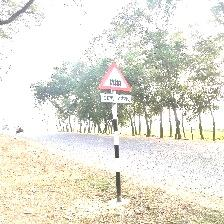Rail-crossing: (98, 62, 133, 106)
